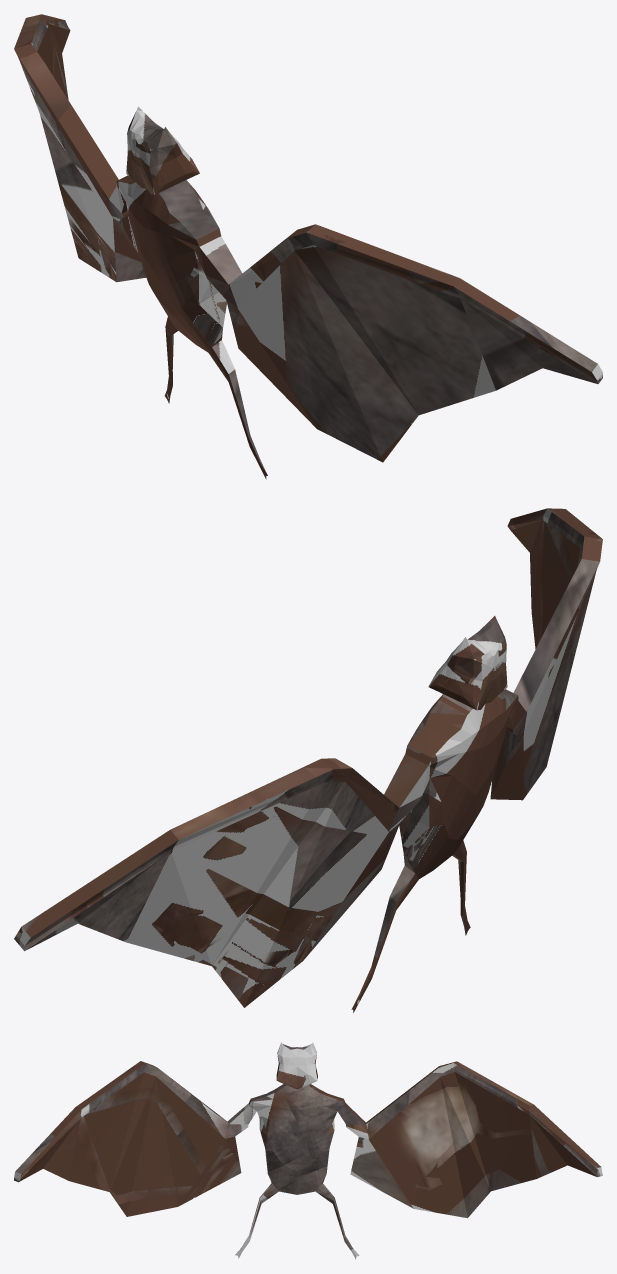
File: Enemigo123.obj
The picture shows the model from 3 angles, top to bottom: view 1: azimuth 30°, elevation 25°; view 2: azimuth 150°, elevation 25°; view 3: azimuth 270°, elevation 25°; orthographic projection. The views are drawn at different scales.
Parts seen in each view (by area): view 1: Plano; view 2: Plano; view 3: Plano.
Part boxes in pixels (x1,y1,x2,y2): Plano: [14, 14, 602, 479]; Plano: [14, 508, 602, 1012]; Plano: [14, 1042, 602, 1259].
Size of the model in its own units: 0.5245 by 0.7467 by 2.01.
1 material, 1 textured.
